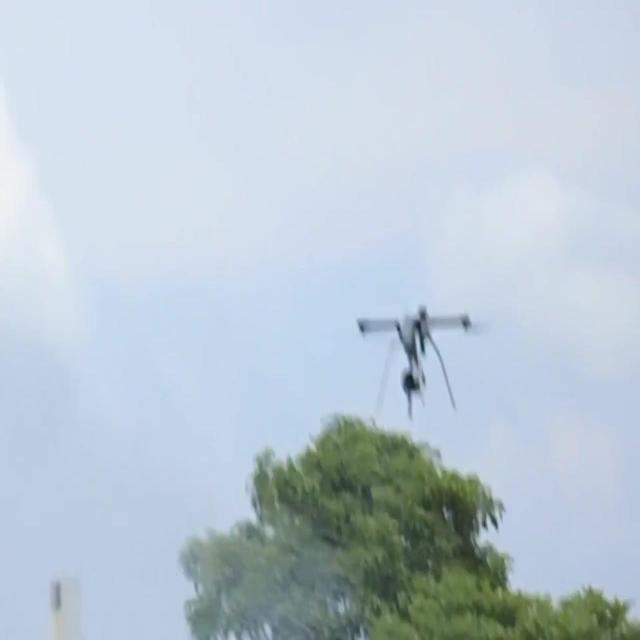UAV: (356, 304, 472, 420)
